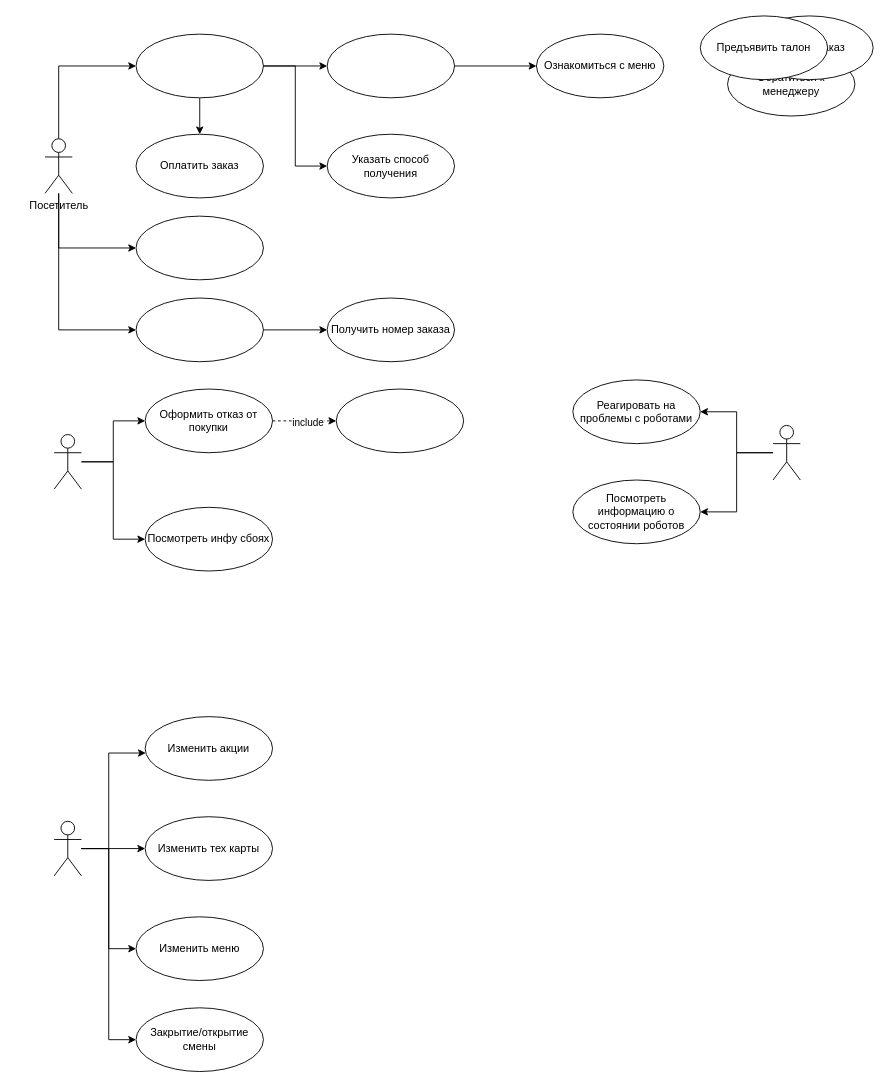
Image size: 889x1087. Some labels were removed from this diagram. The shapes that lost their labels are listed below. From the top down, each one's centre as x and y in pixels, then its label:
At point (199, 65): "Оформить заказ".
At point (390, 65): "Добавить позиции в корзину".
At point (199, 247): "Зарегистрироваться в системе лояльности".
At point (199, 329): "Получить оповещение о готовности".
At point (399, 420): "Выбрать способ возврата дс".
At point (67, 461): "Менеджер по гост".
At point (786, 452): "Ответственный за смену".
At point (67, 848): "Менеджер по ассорт".
